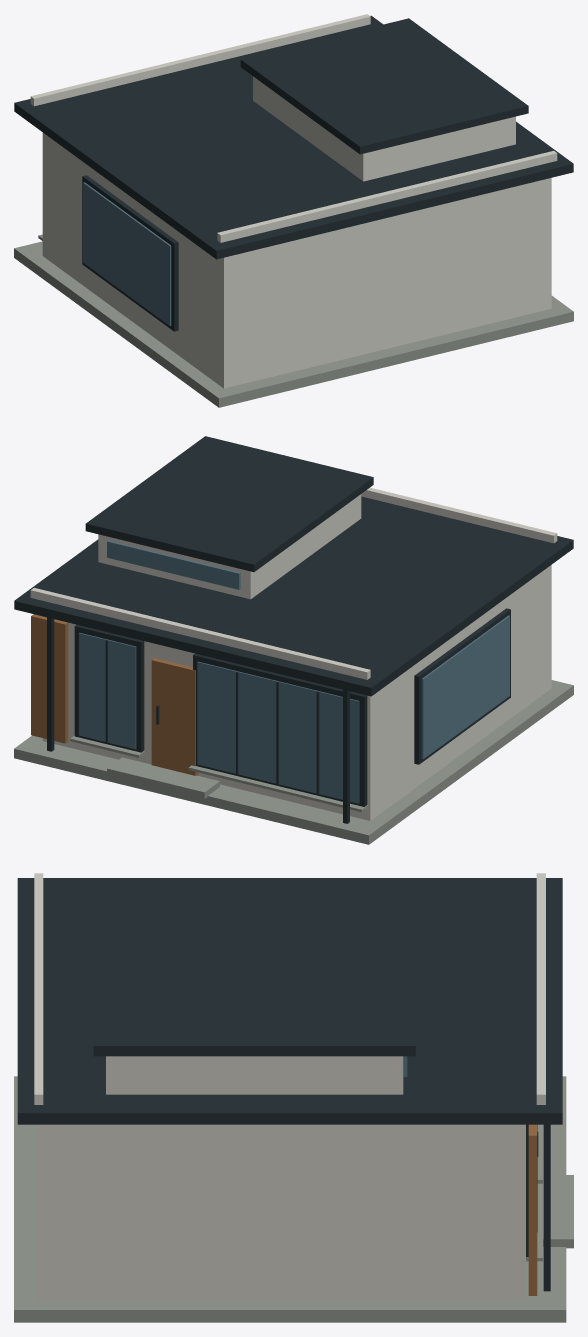
Rendered from house-pavilion.glb.
3 views of the same model, one above another, from view 1: azimuth 30°, elevation 25°; view 2: azimuth 150°, elevation 25°; view 3: azimuth 270°, elevation 25° (orthographic). The views are drawn at different scales.
Visible parts, largest first — view 1: WarmWhitePlaster, DarkArchitecturalAluminium, StoneBase, BlueReflectiveGlazing; view 2: DarkArchitecturalAluminium, BlueReflectiveGlazing, WarmWhitePlaster, StoneBase, TimberCladding; view 3: DarkArchitecturalAluminium, WarmWhitePlaster, StoneBase, TimberCladding.
Boxes of the visible parts, box(x1,y1,x2,y2) form: WarmWhitePlaster: box(30, 14, 557, 388); DarkArchitecturalAluminium: box(14, 15, 573, 331); StoneBase: box(14, 234, 573, 407); BlueReflectiveGlazing: box(83, 182, 171, 325); DarkArchitecturalAluminium: box(14, 436, 573, 823); BlueReflectiveGlazing: box(79, 540, 509, 803); WarmWhitePlaster: box(30, 487, 557, 820); StoneBase: box(14, 680, 573, 844); TimberCladding: box(31, 614, 198, 775); DarkArchitecturalAluminium: box(17, 878, 562, 1291); WarmWhitePlaster: box(34, 873, 545, 1300); StoneBase: box(14, 1076, 573, 1322); TimberCladding: box(528, 1124, 537, 1295).
Bounding box in the file's own units: 7.85 × 4.15 × 7.91.
